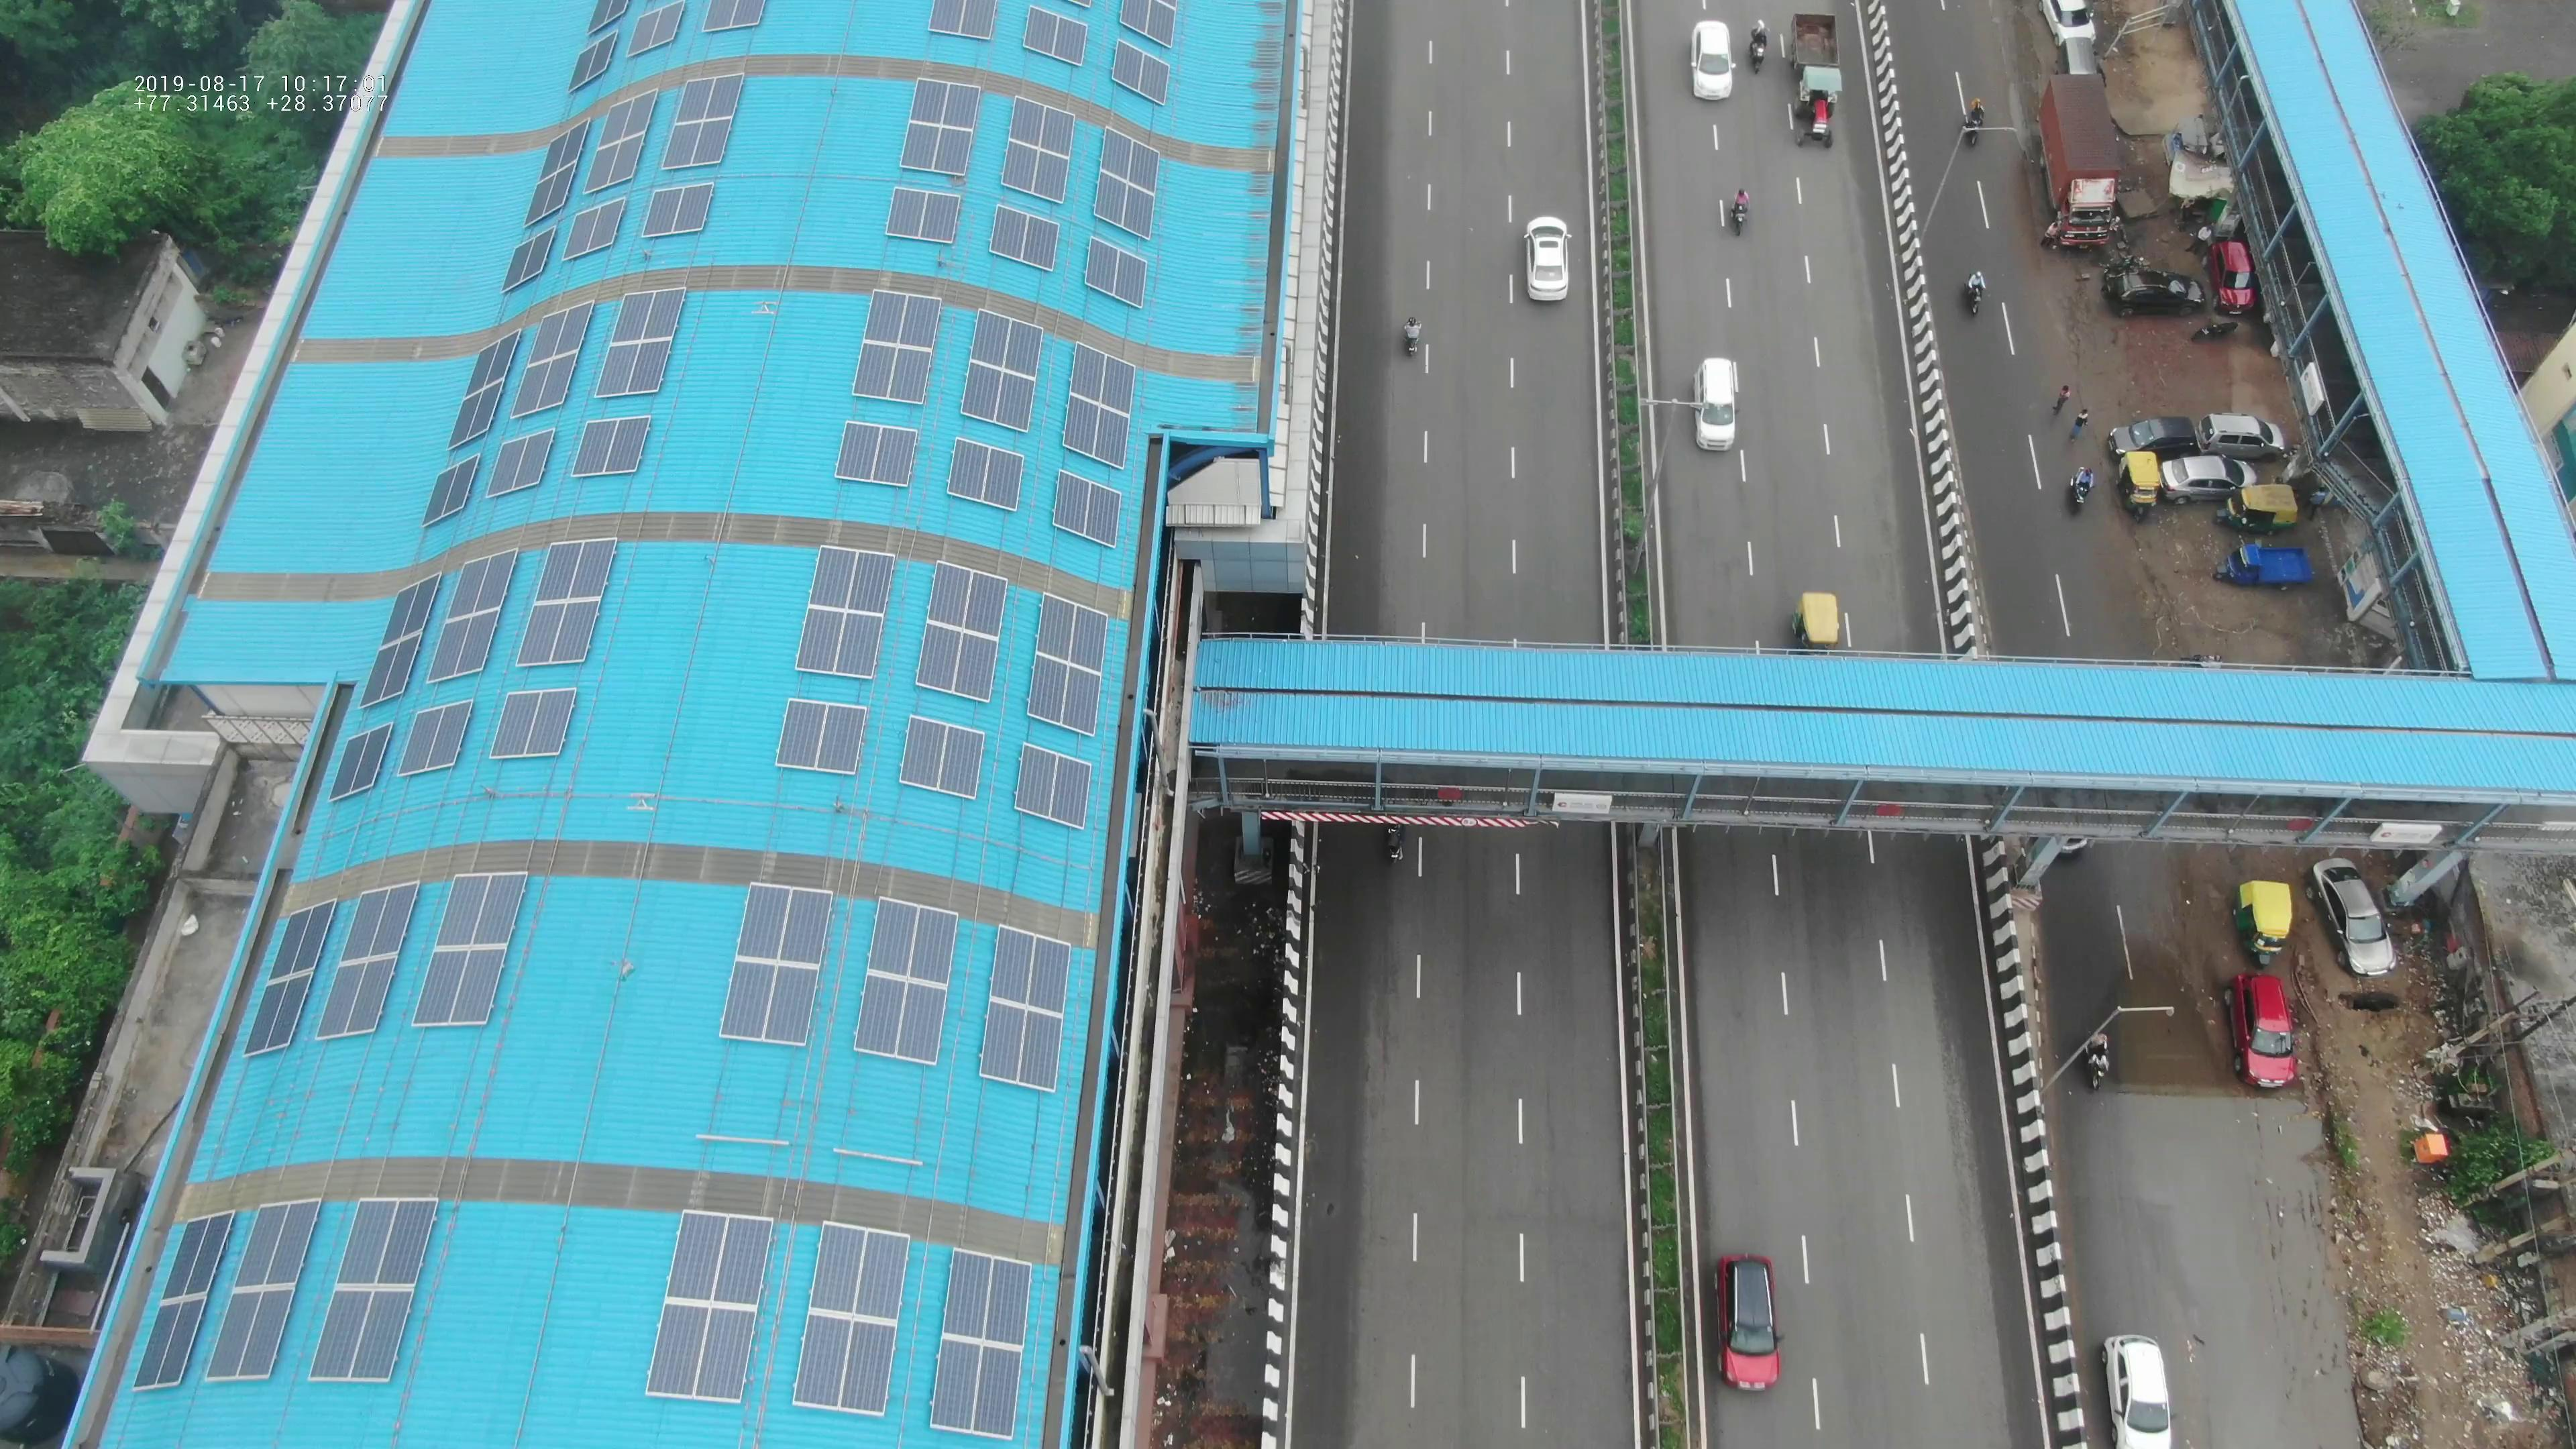Waterlogging: (2104, 993, 2318, 1330)
